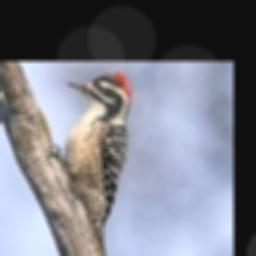Woodpecker: (47, 71, 134, 250)
